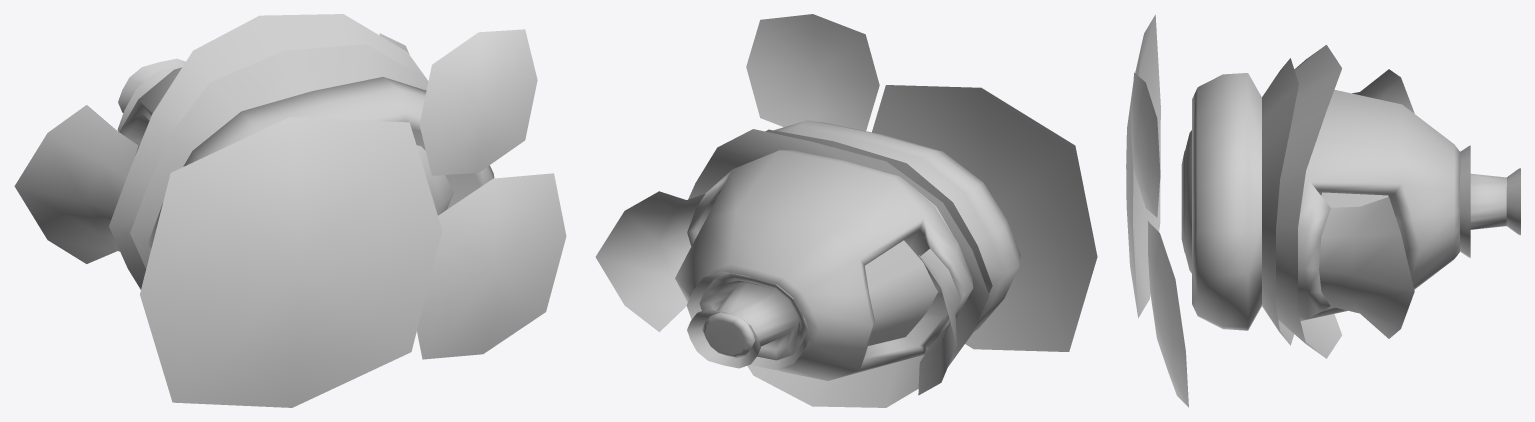
File: Fish_Arti_01.fbx
The picture shows the model from 3 angles, left to right: view 1: azimuth 30°, elevation 25°; view 2: azimuth 150°, elevation 25°; view 3: azimuth 270°, elevation 25°; orthographic projection. The views are drawn at different scales.
Visible parts, largest first — view 1: Bio_Arti_02_scrn, Fish_Arti_01; view 2: Fish_Arti_01, Bio_Arti_02_scrn; view 3: Fish_Arti_01, Bio_Arti_02_scrn.
Part boxes in pixels (box(x1,y1,x2,y2)): Bio_Arti_02_scrn: box(140, 29, 566, 407); Fish_Arti_01: box(14, 14, 494, 289); Fish_Arti_01: box(595, 120, 1020, 407); Bio_Arti_02_scrn: box(746, 14, 1097, 351); Fish_Arti_01: box(1181, 45, 1520, 358); Bio_Arti_02_scrn: box(1126, 14, 1188, 407).
Bounding box in the file's own units: 0.3602 × 0.2657 × 0.3129.
